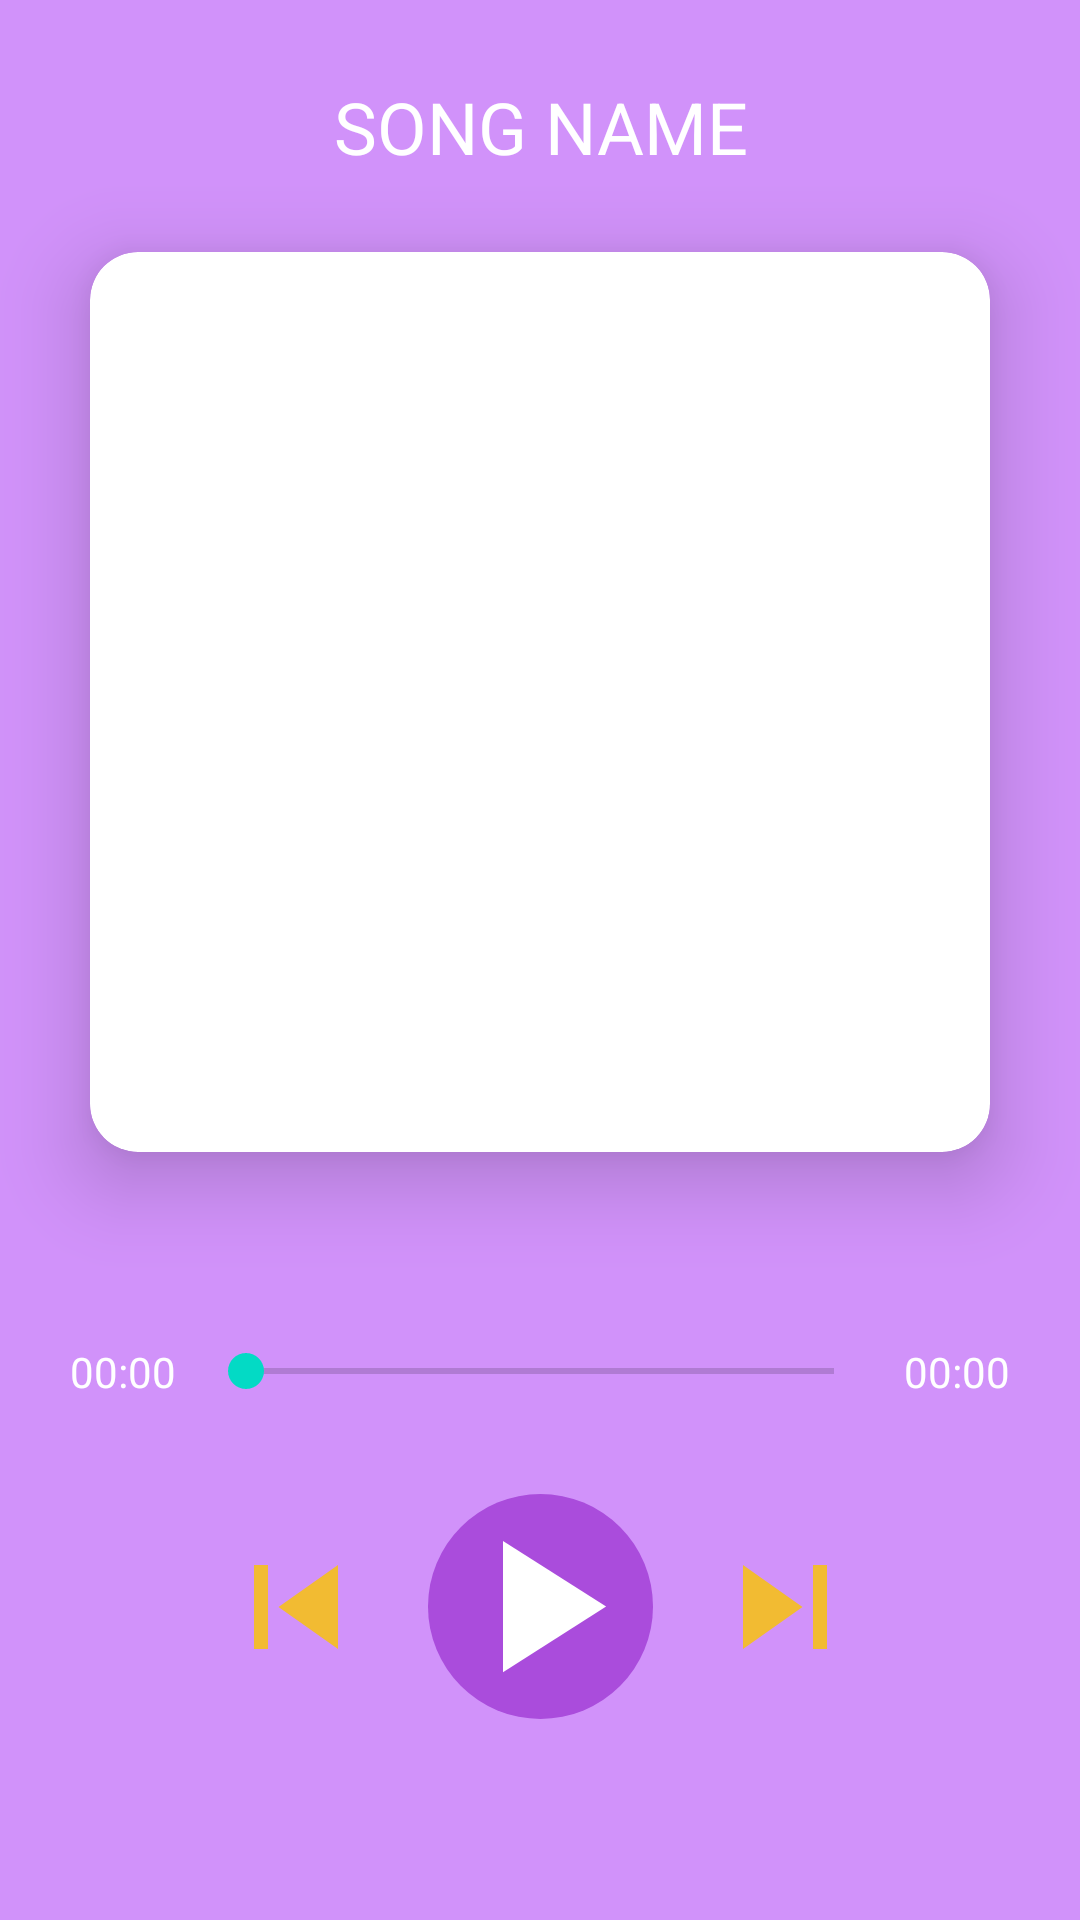

Screen size 1080 × 1920. Icon name, then its box in pixels as (x1, y1, x2, y2):
play: (428, 1494, 653, 1719)
skip: (743, 1565, 827, 1649)
skip previous: (254, 1565, 338, 1649)
